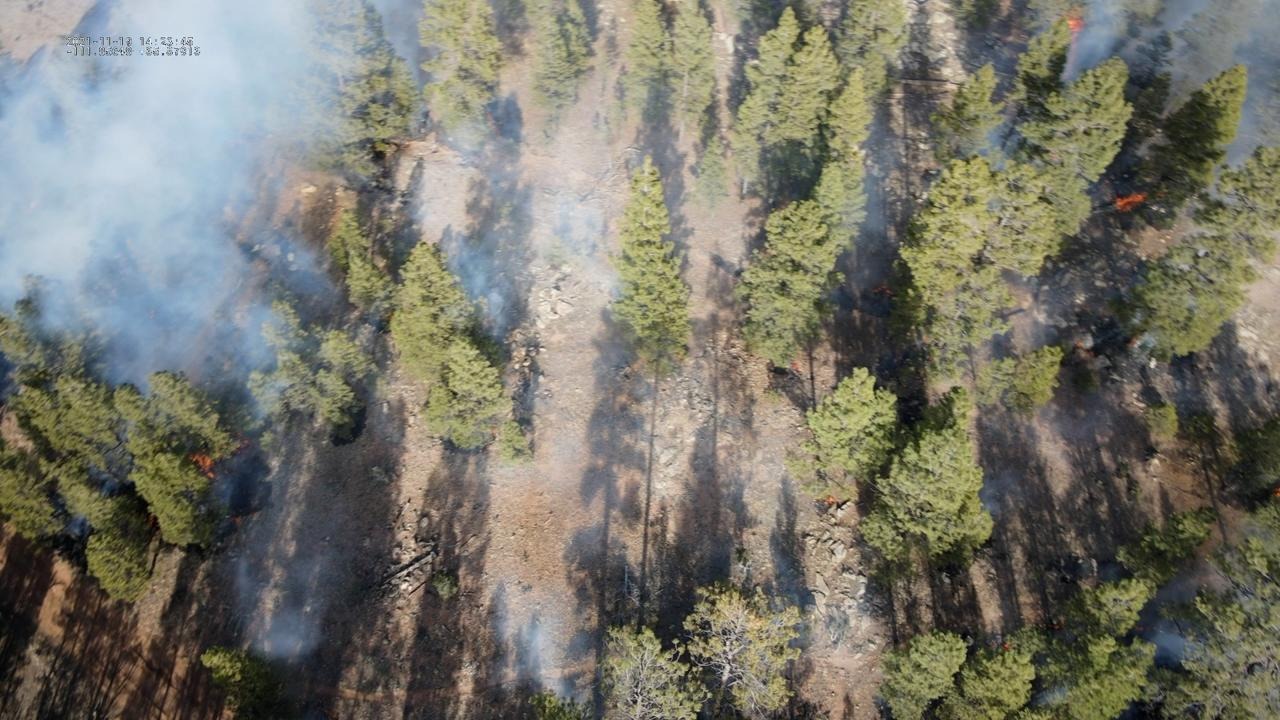fire: (1112, 188, 1148, 213), (186, 451, 215, 479), (1066, 15, 1087, 50), (233, 431, 250, 452), (871, 285, 894, 297), (231, 516, 241, 530), (147, 513, 155, 530), (824, 494, 835, 505), (1272, 485, 1280, 497), (791, 362, 798, 370), (1004, 643, 1009, 649)
smoke: (0, 0, 641, 546), (1123, 0, 1280, 208), (826, 111, 897, 312), (490, 579, 588, 706), (227, 545, 333, 662), (1128, 567, 1236, 672), (1056, 0, 1123, 87), (981, 118, 1026, 171), (977, 470, 1024, 511), (1027, 684, 1071, 712)
